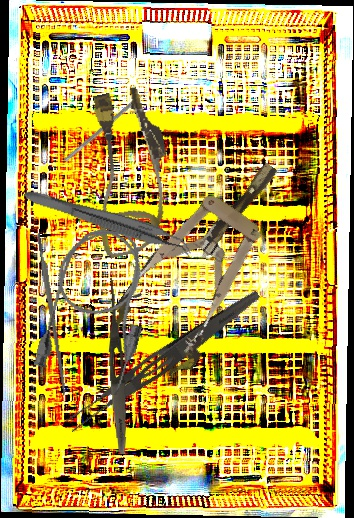Cannula: (31, 220, 163, 398), (72, 83, 186, 260)
Dressing Forceps: (61, 280, 264, 438), (102, 277, 131, 455)
Scalpel Handle: (35, 230, 69, 397)
Spatula Surgical: (63, 87, 153, 166)
Speculum: (100, 138, 314, 385)
Tissue Forceps: (20, 187, 196, 258)
